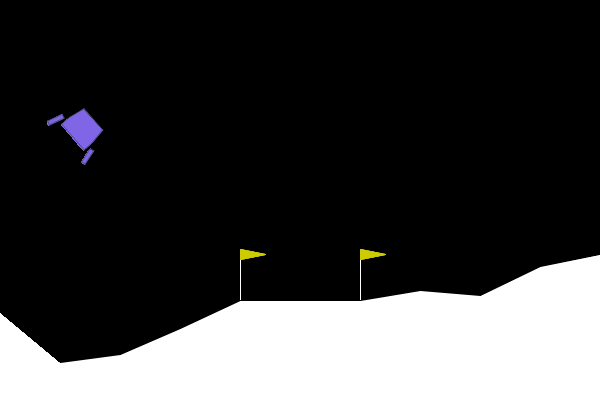lander: (45, 96, 114, 167)
